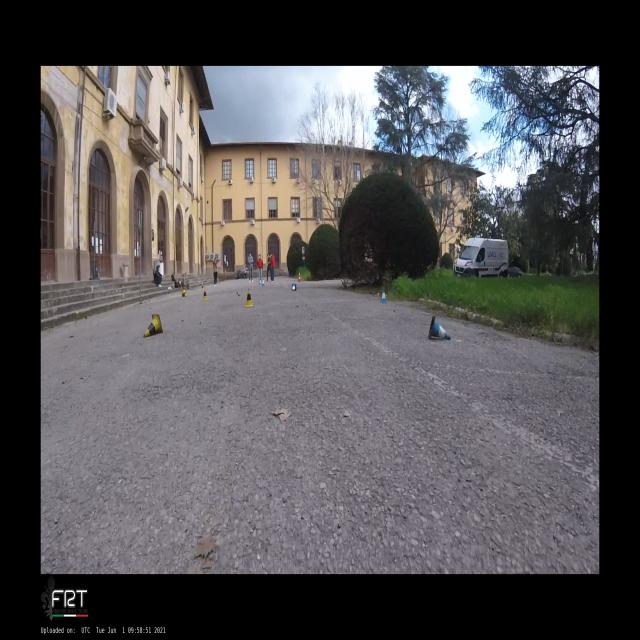blue_cone: (428, 316, 451, 339), (380, 289, 387, 303), (292, 284, 296, 290), (262, 279, 265, 286), (259, 279, 261, 285)
large_orange_cone: (298, 272, 301, 282)
yellow_cone: (144, 314, 164, 337), (245, 288, 254, 308), (203, 288, 208, 300), (182, 289, 186, 297), (201, 284, 204, 290)
